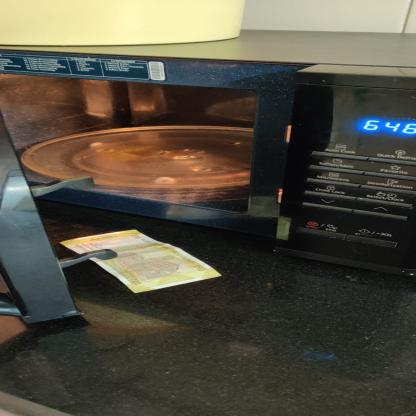New20Back: (58, 229, 223, 294)
